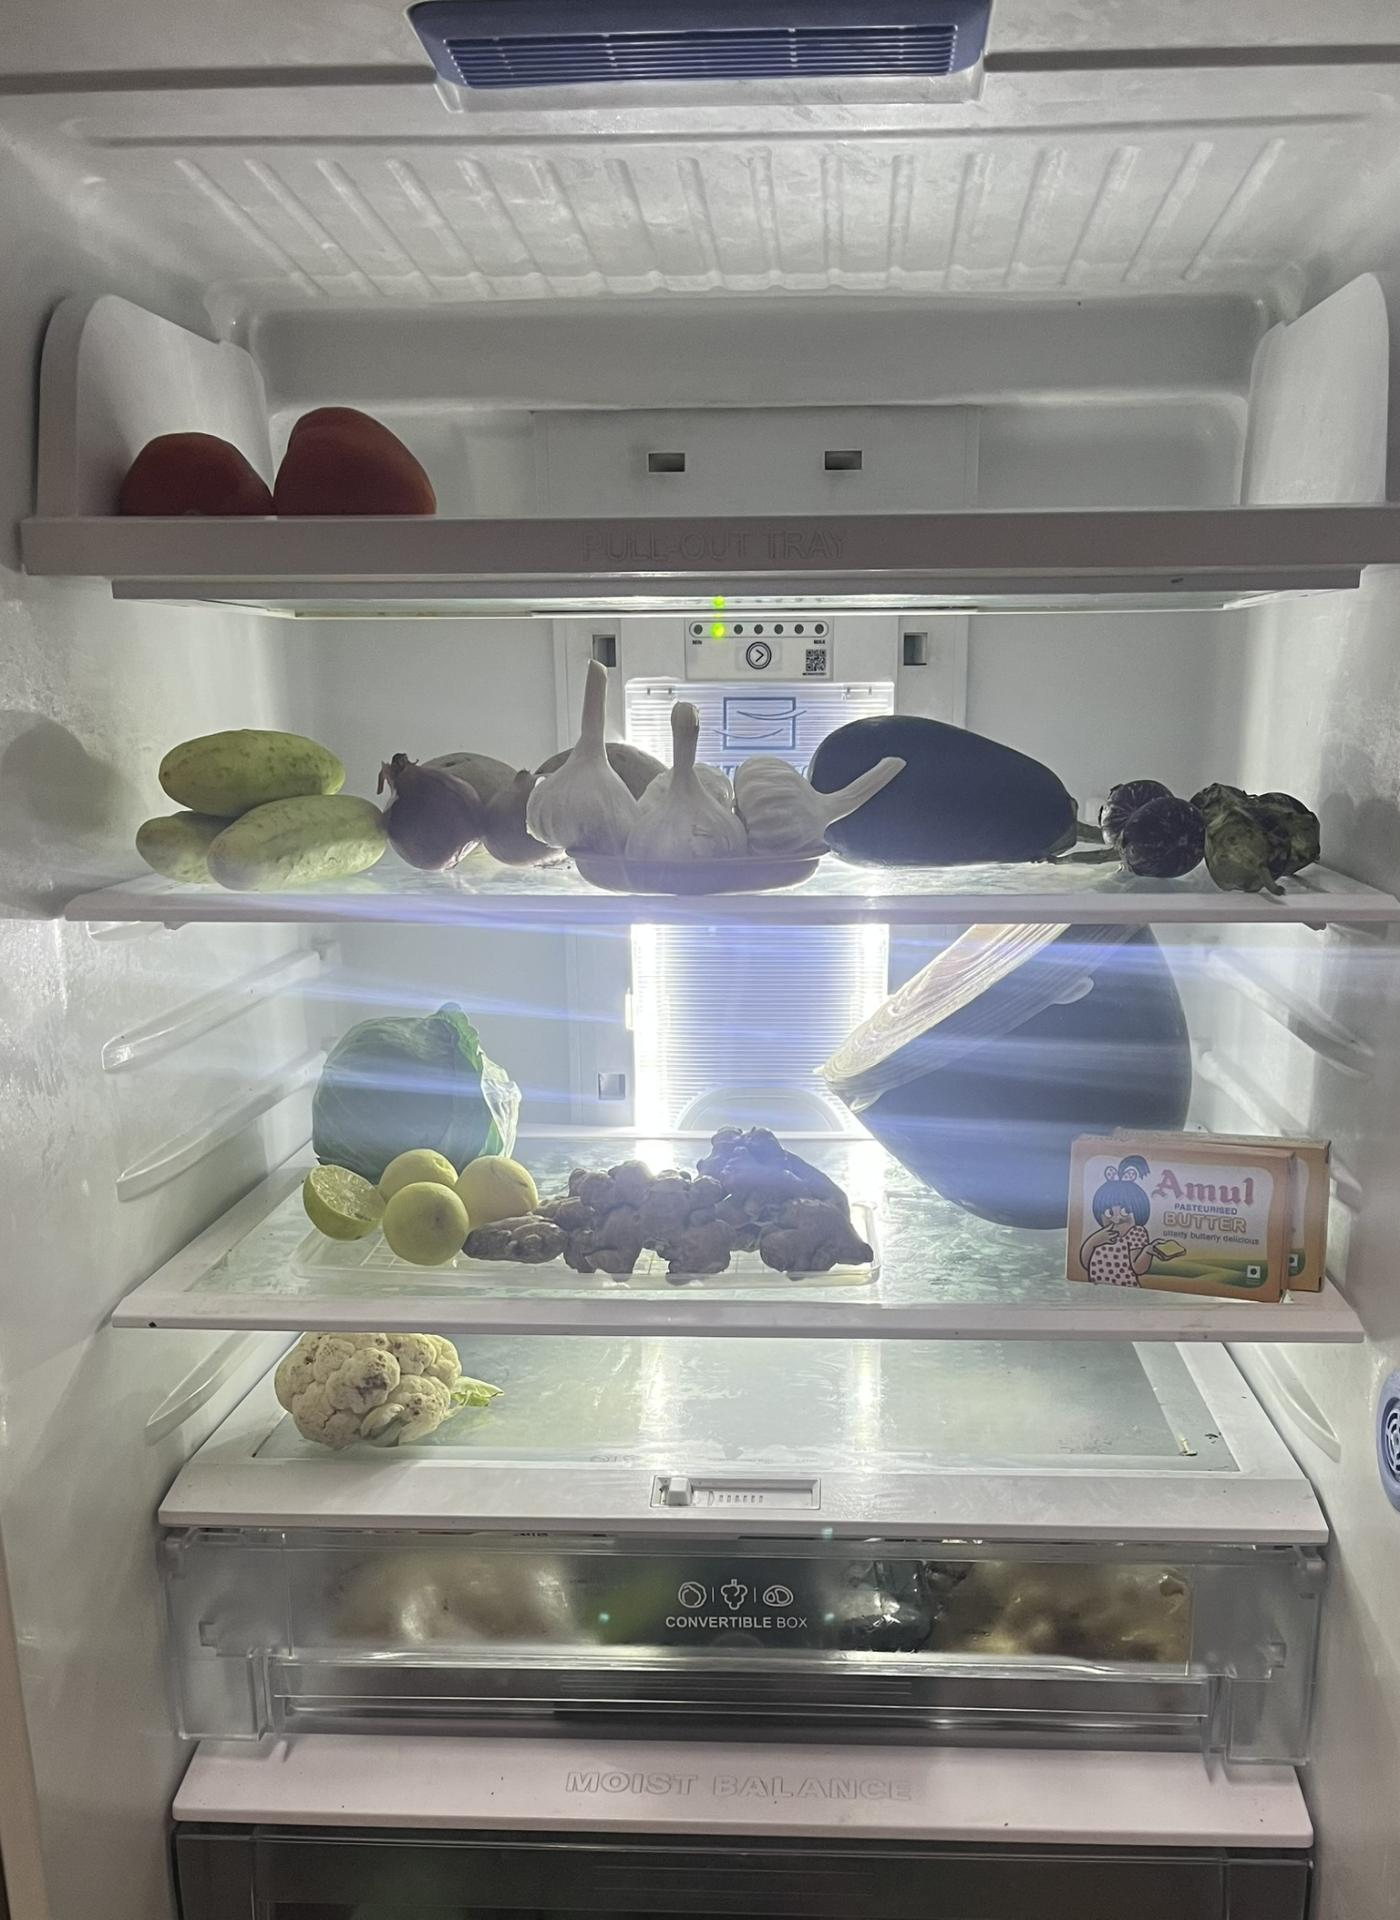butter: (1066, 1128, 1337, 1313)
cabbage: (307, 997, 532, 1184)
cauliflower: (270, 1325, 498, 1453)
cucumber: (146, 716, 389, 878)
garlic: (538, 644, 838, 862)
ginger: (480, 1125, 872, 1272)
lemon: (279, 1140, 547, 1254)
onion: (392, 730, 462, 878)
potato: (434, 738, 656, 857)
tomato: (121, 397, 437, 519)
watermelon: (823, 929, 1206, 1216)
